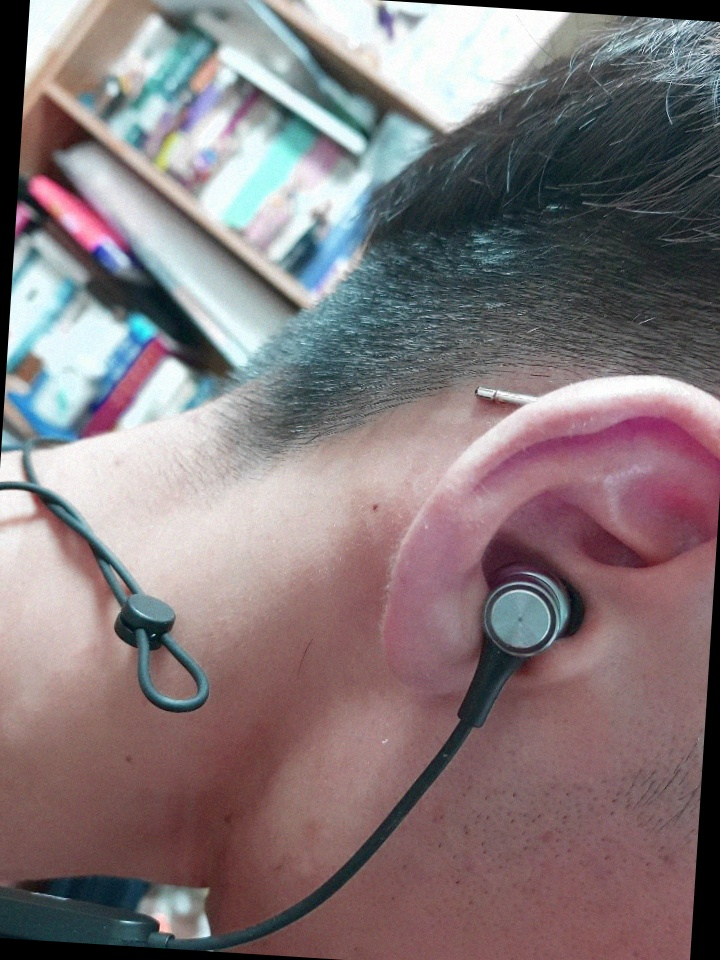earphone: (377, 359, 720, 709)
